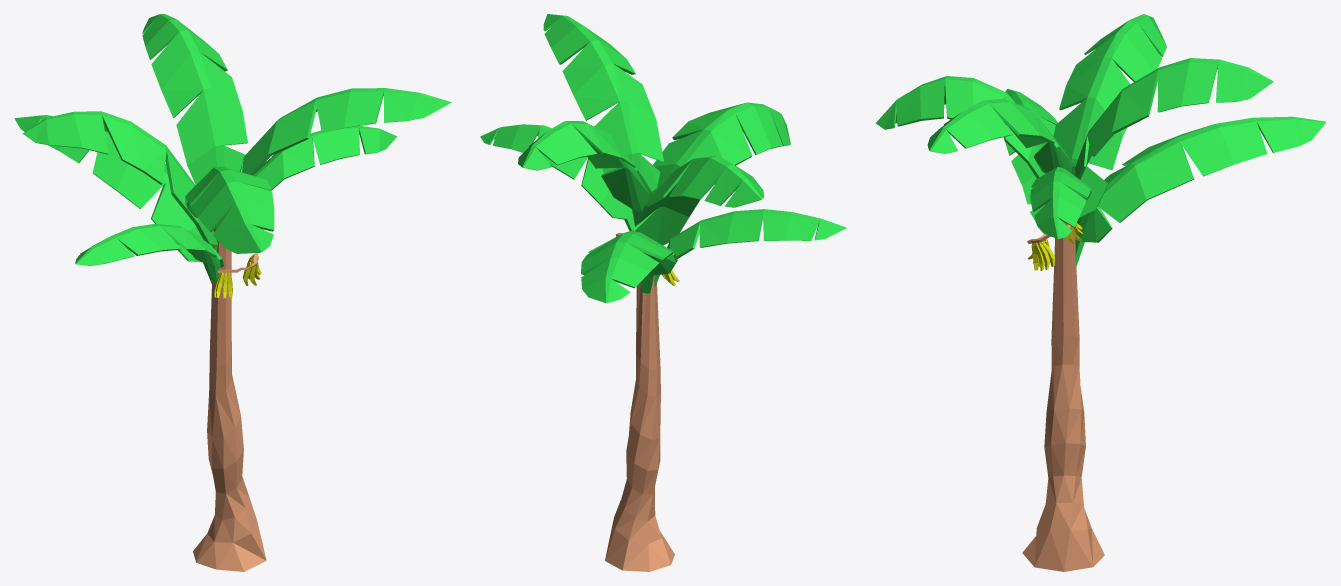
The model's file is BananaTree_1.fbx.
3 renders of one model, left to right at view 1: azimuth 30°, elevation 25°; view 2: azimuth 150°, elevation 25°; view 3: azimuth 270°, elevation 25°, orthographic. The views are drawn at different scales.
Parts seen in each view (by area): view 1: BananaTree_1; view 2: BananaTree_1; view 3: BananaTree_1.
Boxes of the visible parts, left/top/right/bottom form: BananaTree_1: left=14, top=14, right=451, bottom=571; BananaTree_1: left=480, top=14, right=846, bottom=571; BananaTree_1: left=875, top=14, right=1326, bottom=571.
Size of the model in its own units: 2.11 by 2.78 by 2.26.
